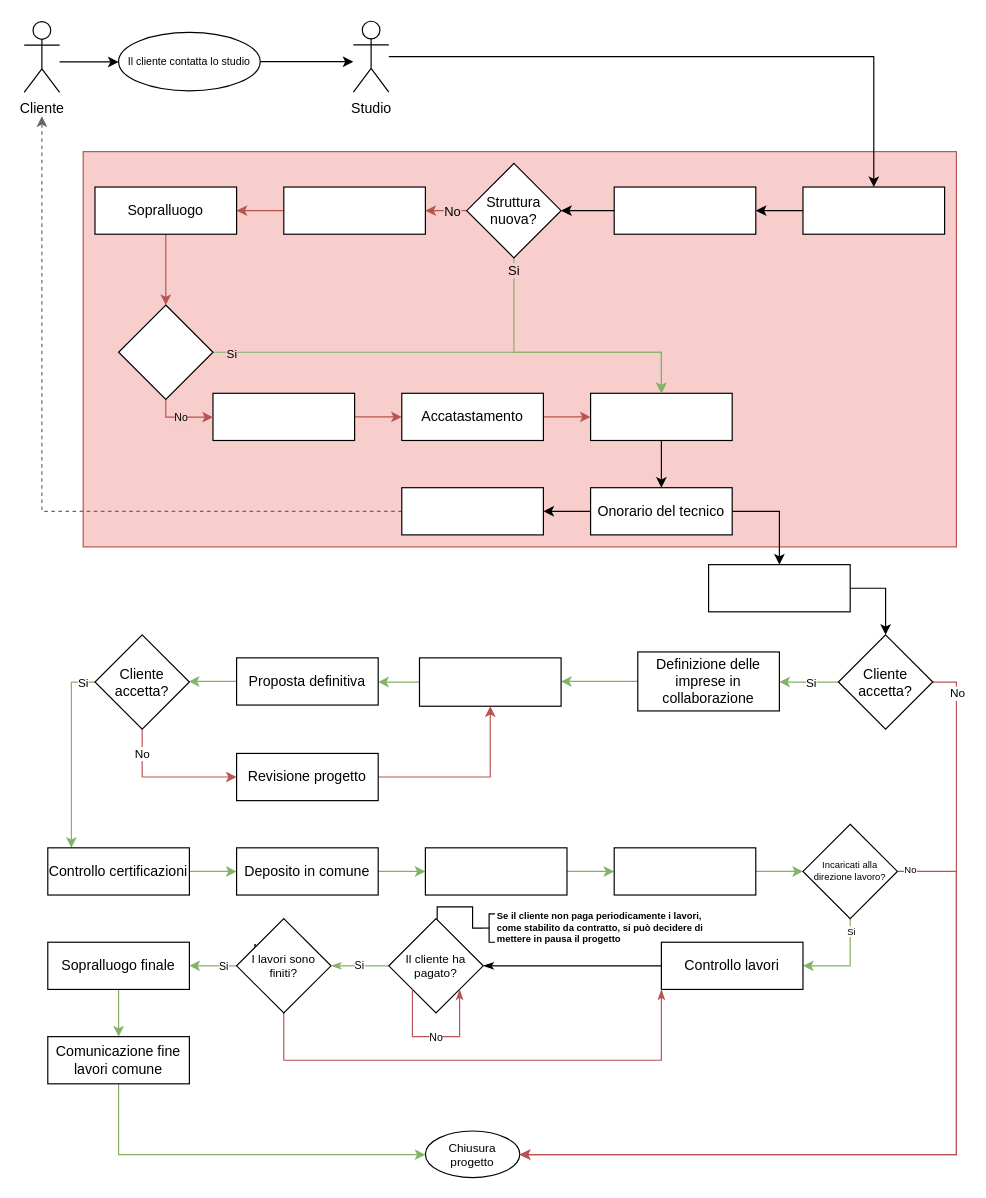
This 986x1198 diagram has some shape labels left out. Here are the shapes that lost their labels. From the top down, the centre of each, then its label:
At point (354, 210): "Accesso agli atti".
At point (684, 210): "Identificazione certificati necessari".
At point (873, 210): "Valutazione progetto".
At point (165, 351): "La struttura è norma?".
At point (283, 416): "SCIA o CILAS".
At point (660, 416): "Computo di massima".
At point (472, 511): "Invio fattura".
At point (778, 587): "Proposta iniziale".
At point (489, 681): "Computo metrico".
At point (495, 871): "Contatto imprese inizio lavori".
At point (684, 871): "Compilazione PSC".
